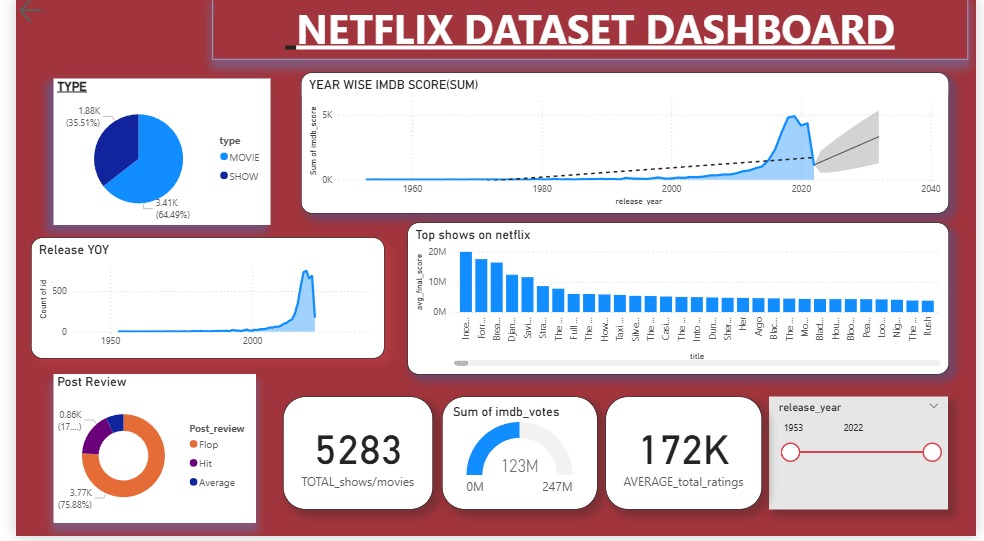

The dashboard page shown, as its layout file describes it:
{"tool":"powerbi","page":{"name":"Page 1","canvas":[1280,720],"ordinal":0},"visuals":[{"type":"actionButton","box":[0,0,100,40],"z":0},{"type":"pieChart","title":"TYPE","fields":{"Y":["CountNonNull(Netflix TV Shows and Movies xlsx - Netflix TV Shows and Movies.type)"],"Category":["Netflix TV Shows and Movies xlsx - Netflix TV Shows and Movies.type"]},"box":[50.6,109.6,289.2,195.2],"z":1000},{"type":"textbox","box":[261.4,0,1007.2,84.3],"z":2000},{"type":"lineChart","title":"         YEAR WISE IMDB SCORE(SUM)","fields":{"Category":["Netflix TV Shows and Movies xlsx - Netflix TV Shows and Movies.release_year"],"Y":["Sum(Netflix TV Shows and Movies xlsx - Netflix TV Shows and Movies.imdb_score)"]},"box":[379.5,101.2,863.9,188],"z":3000},{"type":"donutChart","title":"Post Review","fields":{"Category":["Netflix TV Shows and Movies xlsx - Netflix TV Shows and Movies.Post_review"],"Y":["CountNonNull(Netflix TV Shows and Movies xlsx - Netflix TV Shows and Movies.Post_review)"]},"box":[50.6,504.8,269.9,198.8],"z":4000},{"type":"stackedAreaChart","title":"Release YOY","fields":{"Category":["Netflix TV Shows and Movies xlsx - Netflix TV Shows and Movies.release_year"],"Y":["CountNonNull(Netflix TV Shows and Movies xlsx - Netflix TV Shows and Movies.id)"]},"box":[19.3,322.9,471.1,161.4],"z":5000},{"type":"clusteredColumnChart","title":"Top shows on netflix","fields":{"Category":["Netflix TV Shows and Movies xlsx - Netflix TV Shows and Movies.title"],"Y":["Netflix TV Shows and Movies xlsx - Netflix TV Shows and Movies.Avg_finalascore"]},"box":[521.7,302.4,721.7,202.4],"z":6000},{"type":"slicer","fields":{"Values":["Netflix TV Shows and Movies xlsx - Netflix TV Shows and Movies.release_year"]},"box":[1004.8,533.7,238.6,150.6],"z":7000},{"type":"card","fields":{"Values":["Netflix TV Shows and Movies xlsx - Netflix TV Shows and Movies.TOTAL_shows/movies"]},"box":[355.4,533.7,200,150.6],"z":8000},{"type":"gauge","fields":{"Y":["Sum(Netflix TV Shows and Movies xlsx - Netflix TV Shows and Movies.imdb_votes)"]},"box":[567.5,533.7,207.2,150.6],"z":9000},{"type":"card","fields":{"Values":["Netflix TV Shows and Movies xlsx - Netflix TV Shows and Movies.AVERAGE_total_ratings"]},"box":[785.5,533.7,208.4,150.6],"z":9001}]}

Visuals, with their boxes in screenshot pixels (x1, y1, x2, y2), scaled from the page's 1280x720 canvas onto the 984x541 screenshot:
actionButton: 0/0/77/30
"TYPE" pieChart: 39/82/261/229
textbox: 201/0/975/63
"         YEAR WISE IMDB SCORE(SUM)" lineChart: 292/76/956/217
"Post Review" donutChart: 39/379/246/529
"Release YOY" stackedAreaChart: 15/243/377/364
"Top shows on netflix" clusteredColumnChart: 401/227/956/379
slicer - Netflix TV Shows and Movies xlsx - Netflix TV Shows and Movies.release_year: 772/401/956/514
card - Netflix TV Shows and Movies xlsx - Netflix TV Shows and Movies.TOTAL_shows/movies: 273/401/427/514
gauge - Sum(Netflix TV Shows and Movies xlsx - Netflix TV Shows and Movies.imdb_votes): 436/401/596/514
card - Netflix TV Shows and Movies xlsx - Netflix TV Shows and Movies.AVERAGE_total_ratings: 604/401/764/514
